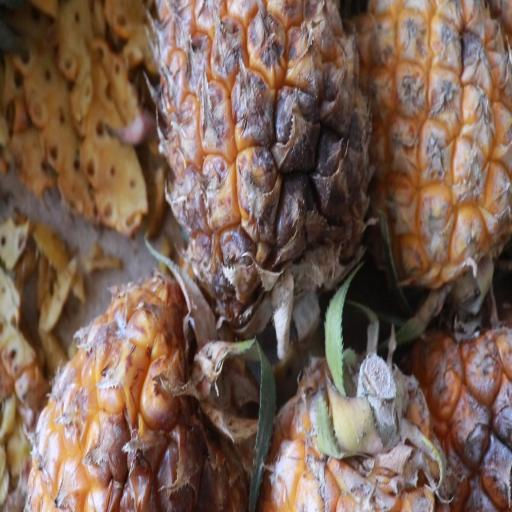Pineapple - v8 v1: (151, 0, 375, 327), (15, 266, 258, 512), (356, 4, 510, 300), (256, 338, 450, 512)
